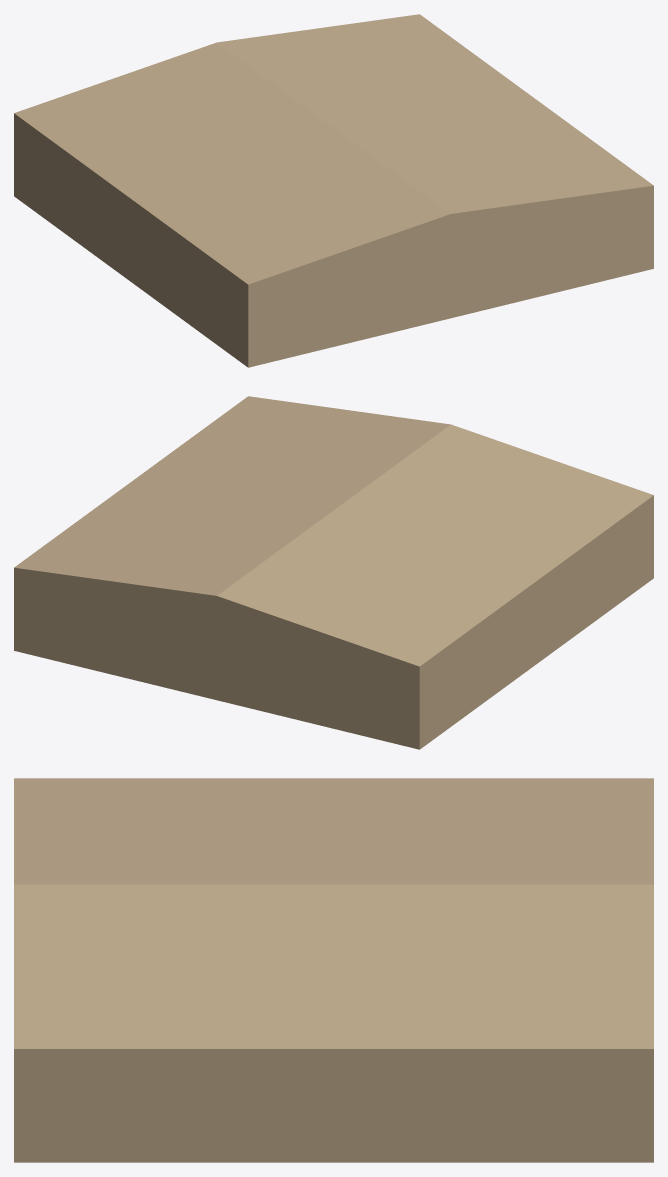
Rendered from Dirt_Gathered_Straight.obj.
3 renders of one model, top to bottom at view 1: azimuth 30°, elevation 25°; view 2: azimuth 150°, elevation 25°; view 3: azimuth 270°, elevation 25°, orthographic. The views are drawn at different scales.
Parts seen in each view (by area): view 1: object1; view 2: object1; view 3: object1.
Part boxes in pixels (<box>): object1: <box>14,14,653,367</box>; object1: <box>14,396,653,749</box>; object1: <box>14,778,653,1162</box>.
Size of the model in its own units: 1 by 0.2458 by 1.
